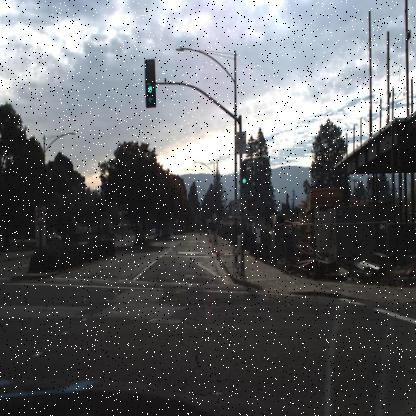car: (43, 228, 63, 242), (149, 224, 160, 238)
trafficLight-Green: (143, 56, 158, 110), (240, 159, 249, 185)
